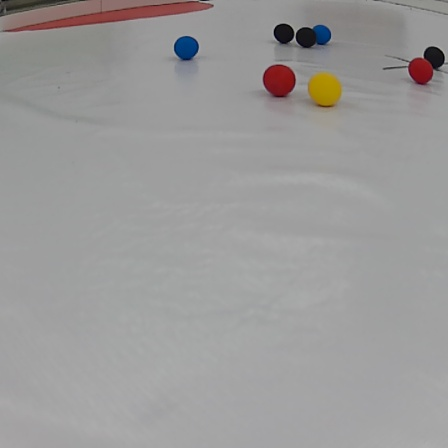black: (273, 19, 295, 49), (423, 43, 448, 69), (297, 28, 315, 50)
blue: (168, 34, 201, 61), (314, 19, 332, 47)
red: (256, 65, 298, 95), (408, 57, 436, 85)
red_base: (3, 1, 209, 42)
yellow: (308, 71, 343, 107)
